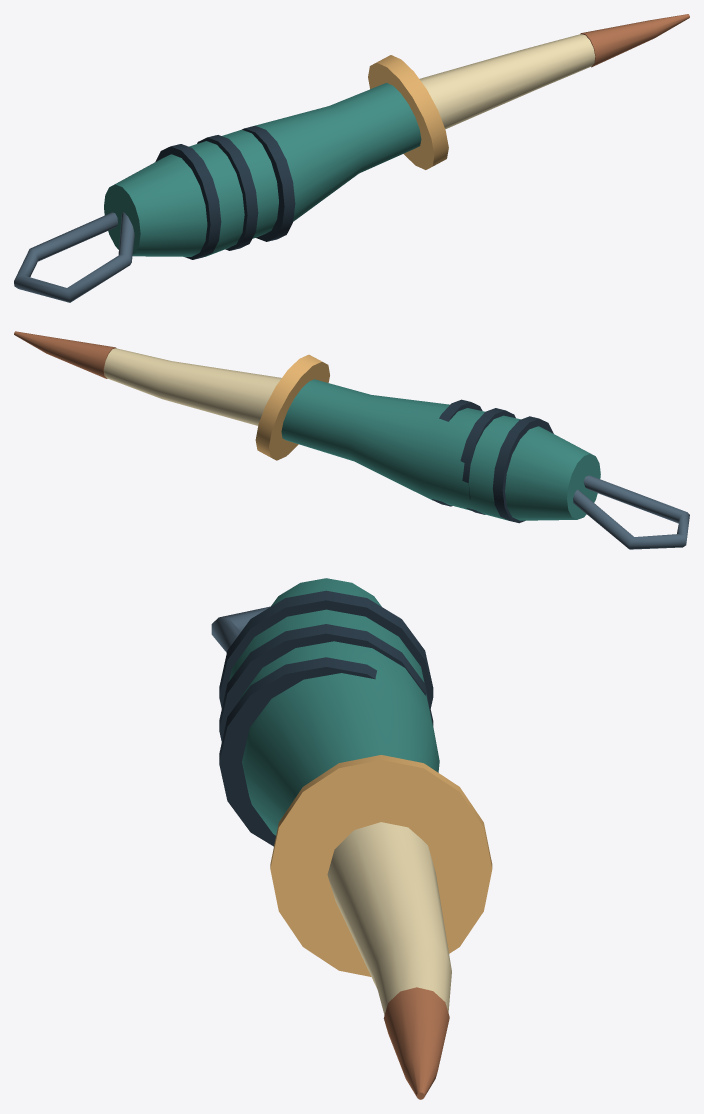
3 renders of one model, top to bottom at view 1: azimuth 30°, elevation 25°; view 2: azimuth 150°, elevation 25°; view 3: azimuth 270°, elevation 25°, orthographic. The views are drawn at different scales.
Visible parts, largest first — view 1: PR125 enamel and hardware; view 2: PR125 enamel and hardware; view 3: PR125 enamel and hardware.
Part boxes in pixels (bbox=[...]): PR125 enamel and hardware: bbox=[14, 14, 689, 302]; PR125 enamel and hardware: bbox=[14, 331, 689, 549]; PR125 enamel and hardware: bbox=[211, 578, 492, 1099].
Bounding box in the file's own units: 0.32 × 0.0559 × 0.0601.
